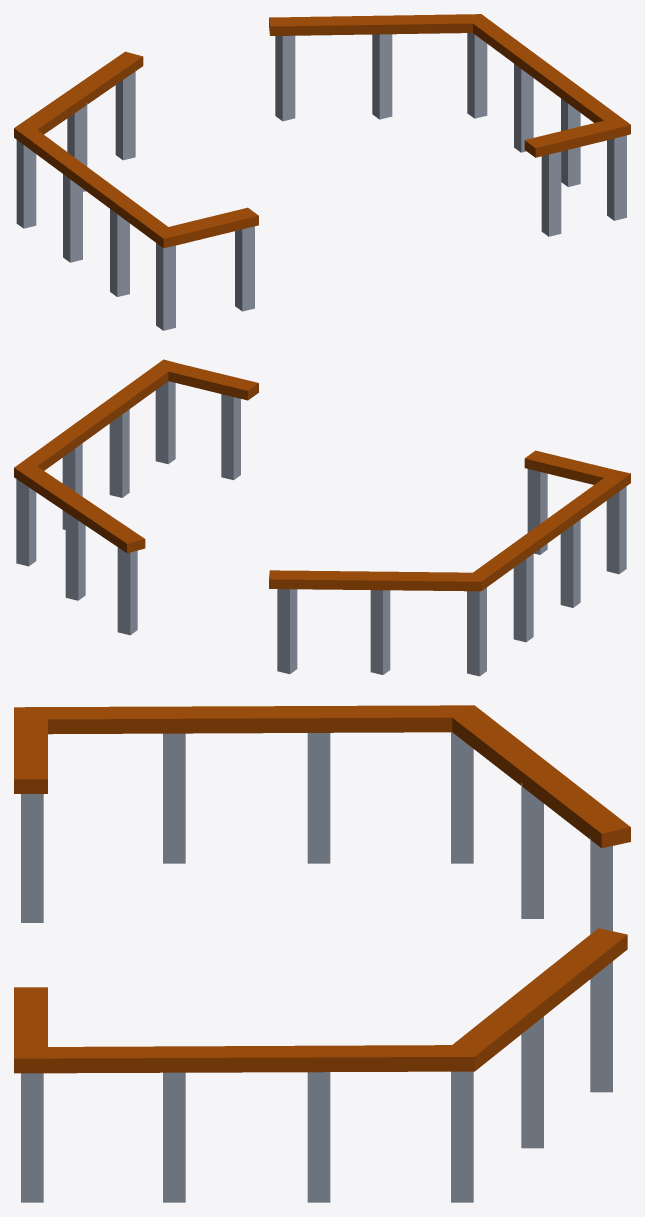
Rendered from Railings 4th floor.fbx.
3 renders of one model, top to bottom at view 1: azimuth 30°, elevation 25°; view 2: azimuth 150°, elevation 25°; view 3: azimuth 270°, elevation 25°, orthographic. The views are drawn at different scales.
Visible parts, largest first — view 1: Railings.007; view 2: Railings.007; view 3: Railings.007.
Part boxes in pixels (box(x1,y1,x2,y2)): Railings.007: box(14, 14, 630, 330); Railings.007: box(14, 359, 630, 676); Railings.007: box(14, 705, 630, 1202).
Size of the model in its own units: 1004 by 196 by 745.
